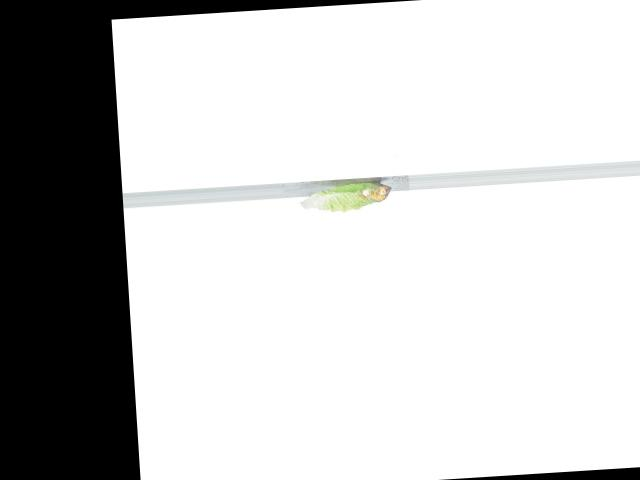lettuce: (297, 175, 396, 217)
